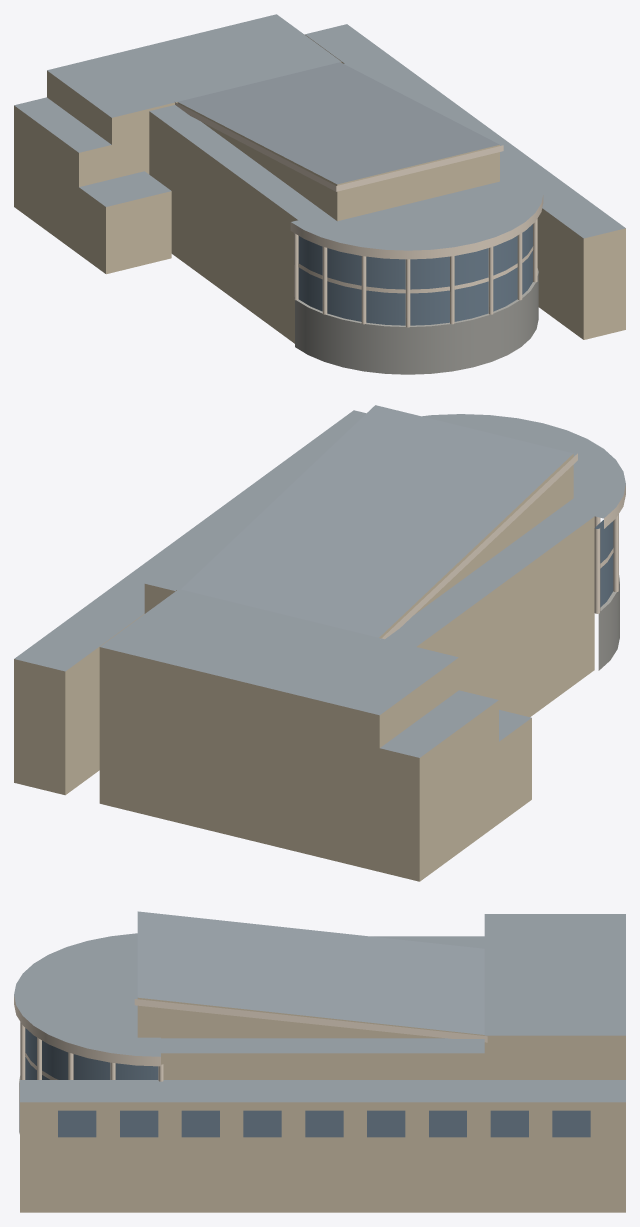
Rendered from sea-benaroya-hall.glb.
The picture shows the model from 3 angles, top to bottom: view 1: azimuth 30°, elevation 25°; view 2: azimuth 150°, elevation 25°; view 3: azimuth 270°, elevation 25°; orthographic projection. The views are drawn at different scales.
Parts seen in each view (by area): view 1: Benaroya Hall; view 2: Benaroya Hall; view 3: Benaroya Hall.
Part boxes in pixels (left/top/right/bottom): Benaroya Hall: left=14, top=14, right=625, bottom=374; Benaroya Hall: left=14, top=405, right=625, bottom=881; Benaroya Hall: left=14, top=911, right=625, bottom=1212.
Bounding box in the file's own units: 71.05 × 33.2 × 104.
